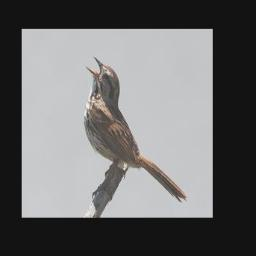Sparrow: (84, 55, 188, 204)
